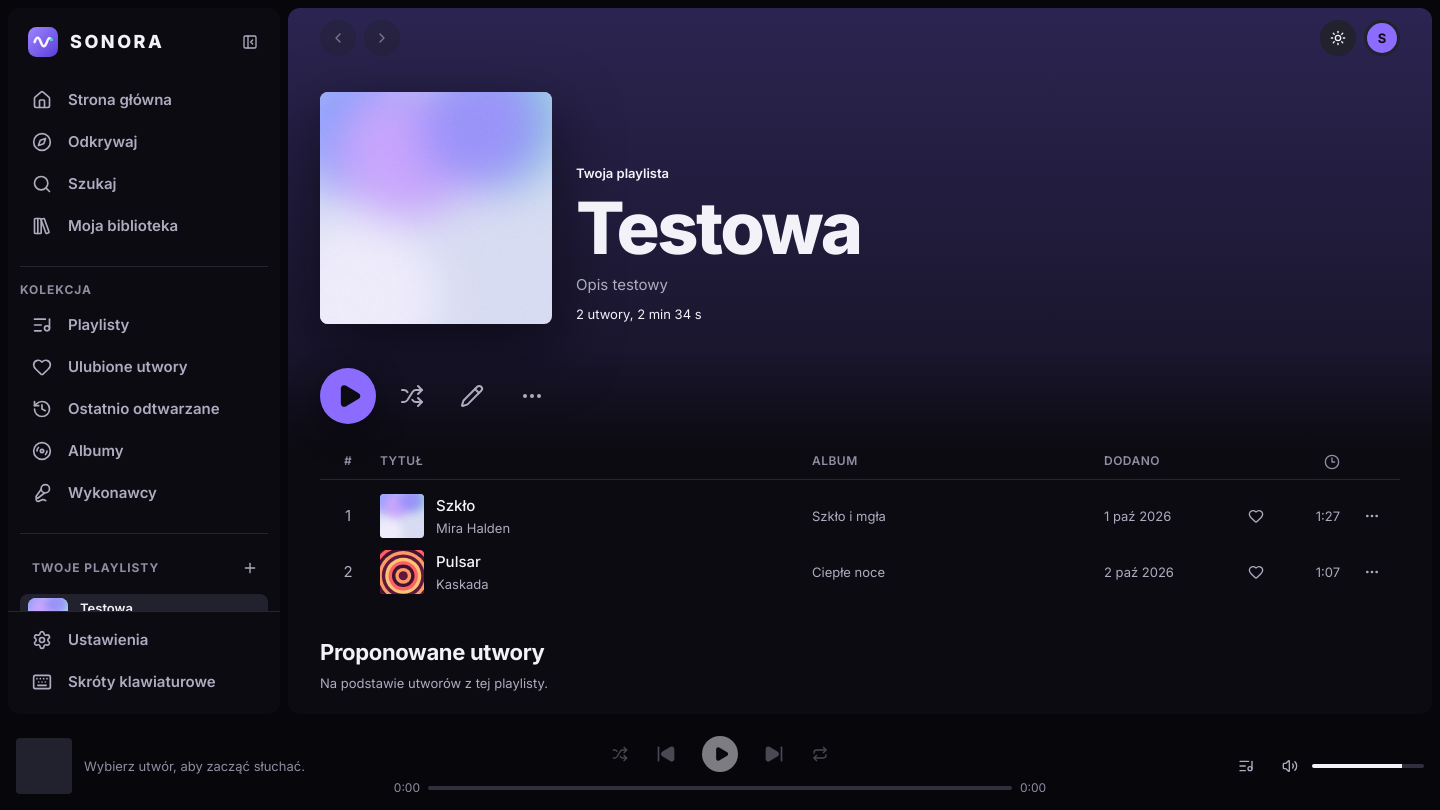
Test: playlisty › edytuje nazwę i opis playlisty
This screenshot has width=1440, height=810.
Click the button named "Edytuj playlistę" at (472, 396), box top-left (448, 372), bottom-right (496, 420)
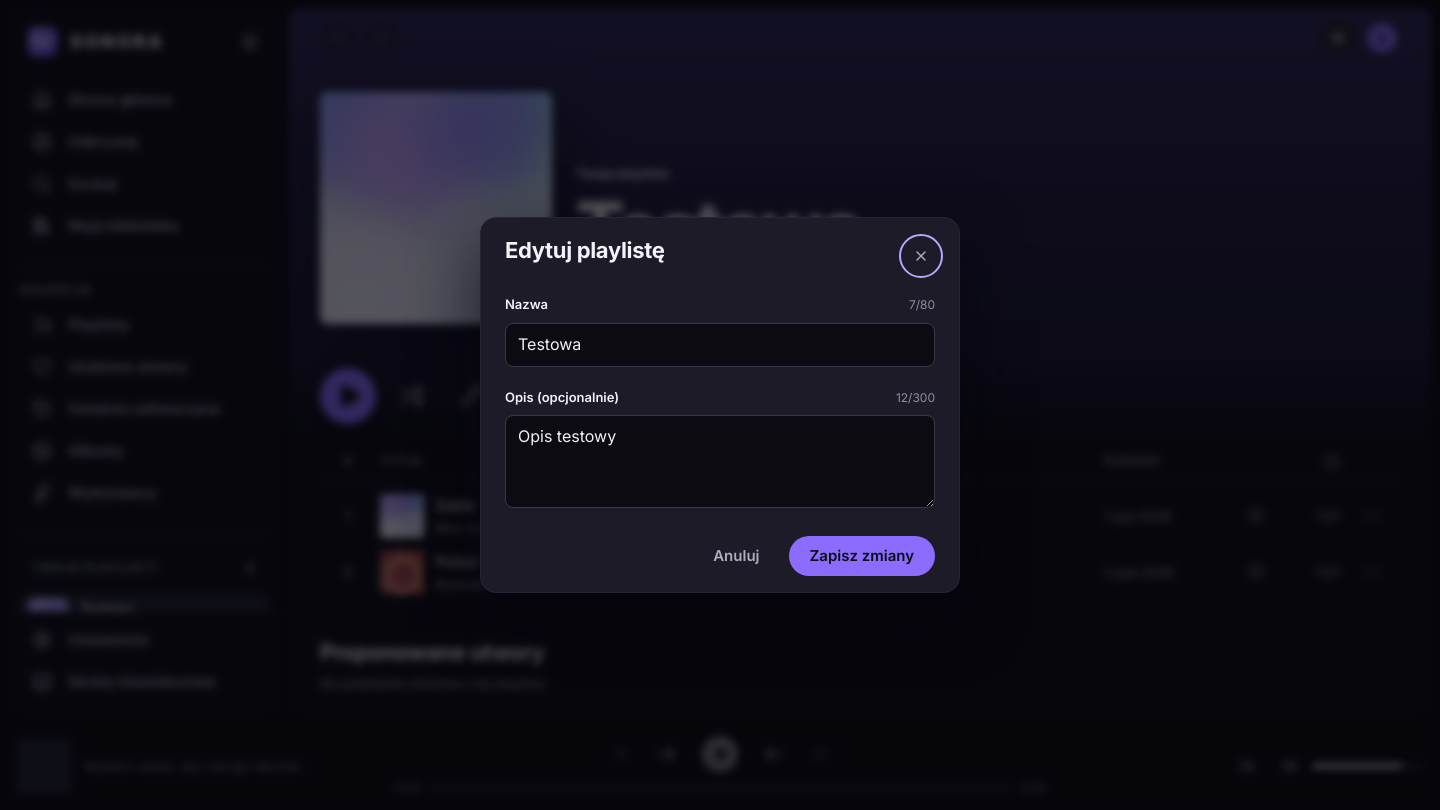
Replace the text in the field labelled "Nazwa" with "Po zmianie" at (720, 345), box top-left (505, 323), bottom-right (935, 367)
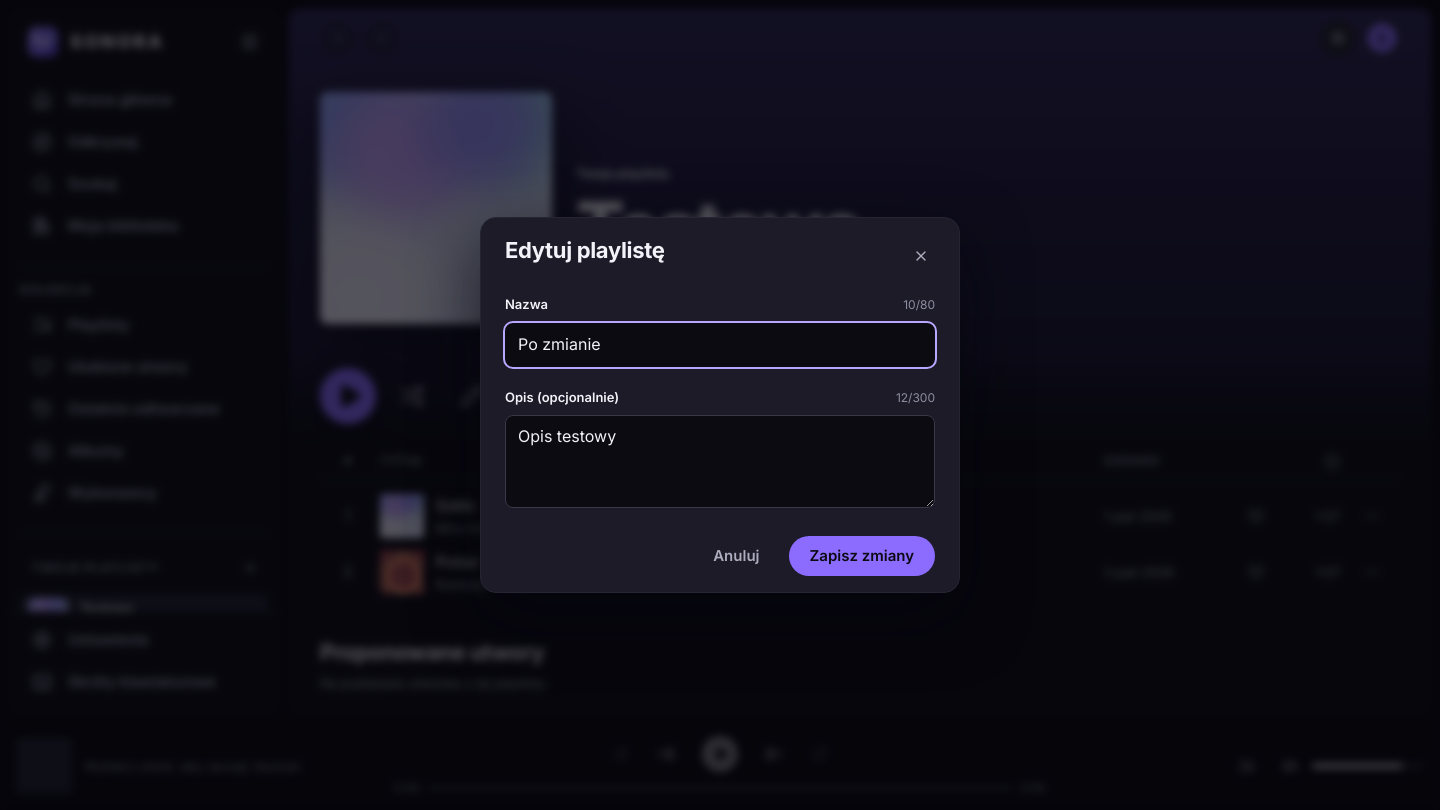
Click the button "Zapisz zmiany" at (862, 556), box top-left (788, 536), bottom-right (935, 576)
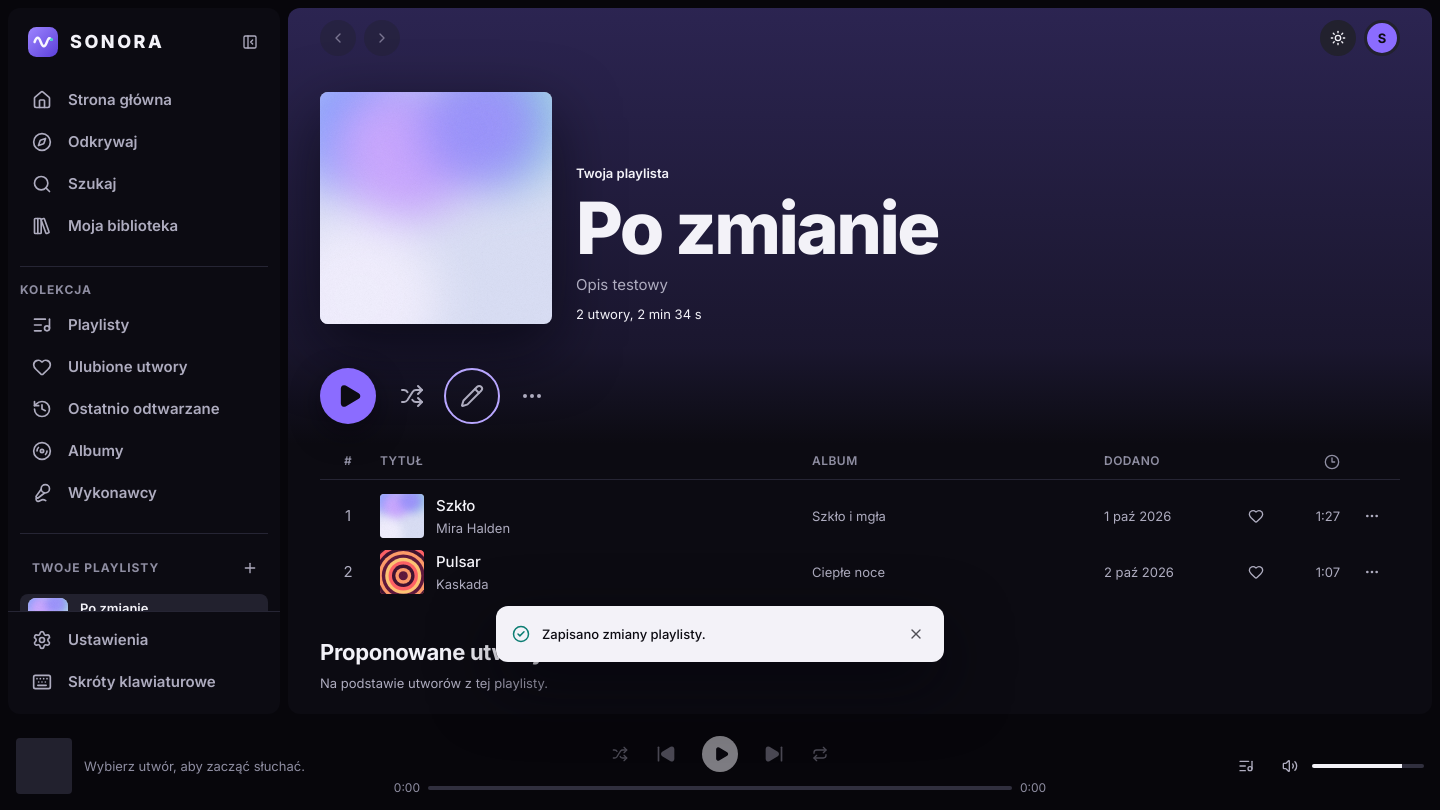
Check: the heading "Po zmianie" is shown, box top-left (576, 191), bottom-right (938, 265)
